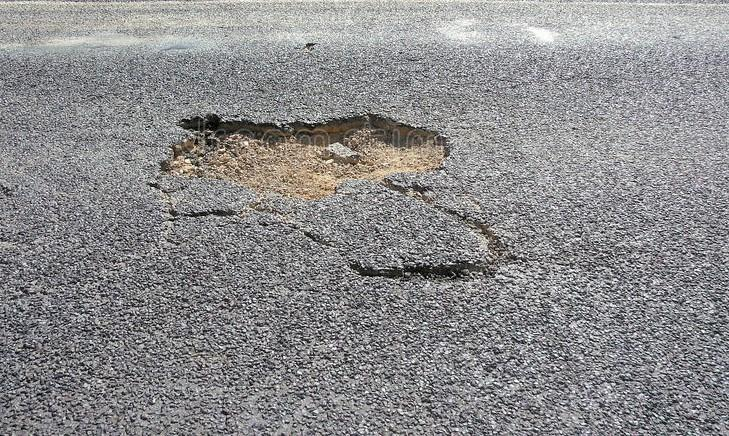pothole: (162, 105, 447, 222)
